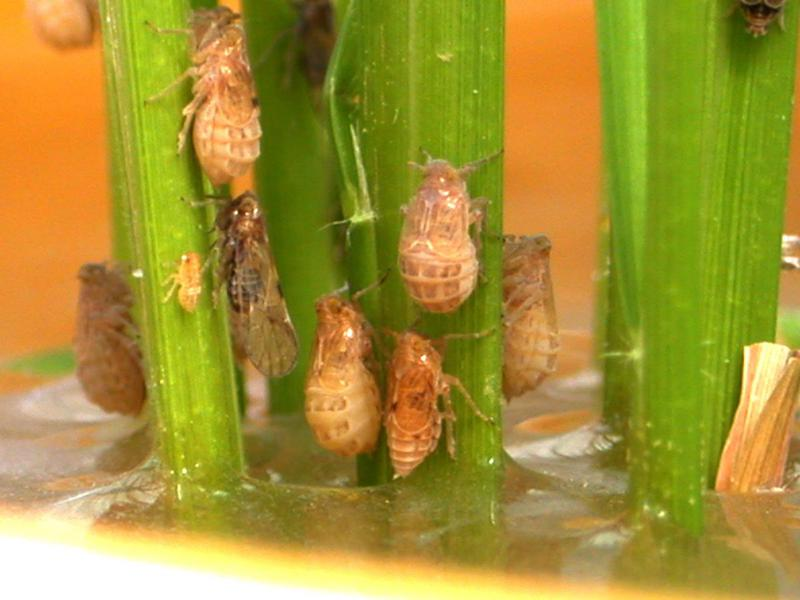Brown_plant_leafhopper: (190, 191, 318, 379), (168, 3, 279, 197), (380, 144, 489, 313), (288, 297, 382, 461), (384, 316, 450, 479)
